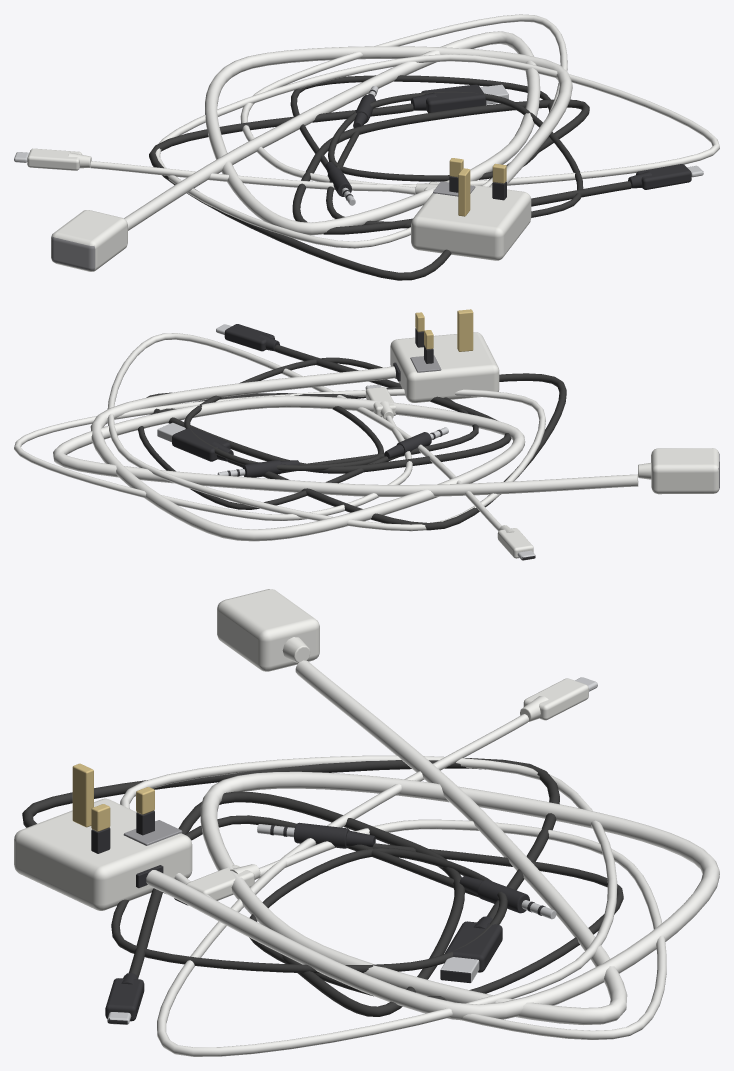
File: kitchen_cables_tangled_b.fbx
3 views of the same model, one above another, from view 1: azimuth 30°, elevation 25°; view 2: azimuth 150°, elevation 25°; view 3: azimuth 270°, elevation 25° (orthographic). The views are drawn at different scales.
Visible parts, largest first — view 1: kitchen_cables_tangled_b; view 2: kitchen_cables_tangled_b; view 3: kitchen_cables_tangled_b.
Part boxes in pixels (left/top/right/bottom): kitchen_cables_tangled_b: left=14, top=14, right=719, bottom=280; kitchen_cables_tangled_b: left=14, top=309, right=719, bottom=560; kitchen_cables_tangled_b: left=14, top=589, right=719, bottom=1056.
Bounding box in the file's own units: 0.3614 × 0.0416 × 0.2604.
